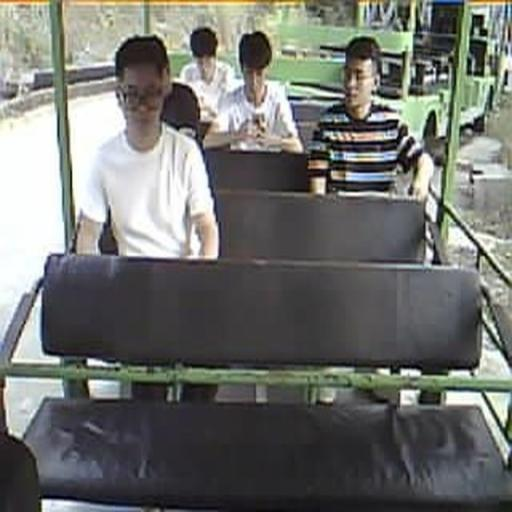persona: (74, 34, 220, 260), (306, 35, 434, 200), (212, 30, 304, 153), (178, 26, 236, 122), (156, 35, 203, 145)
